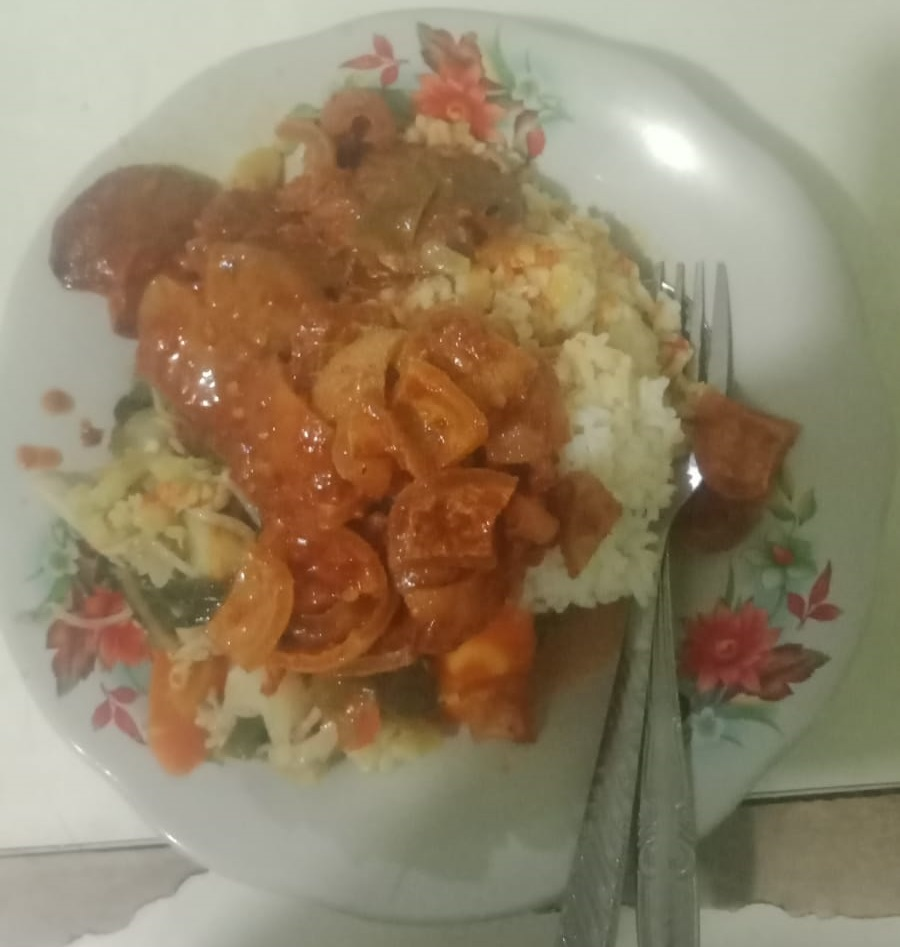Capcai: (39, 417, 209, 703)
Kikil: (258, 330, 543, 714)
Nasi: (567, 256, 695, 473)
Semur_jengkol: (42, 103, 511, 264)
